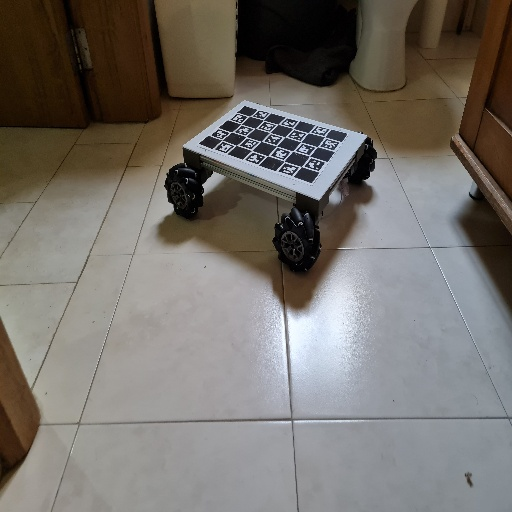Omniwheel: (165, 98, 378, 274)
